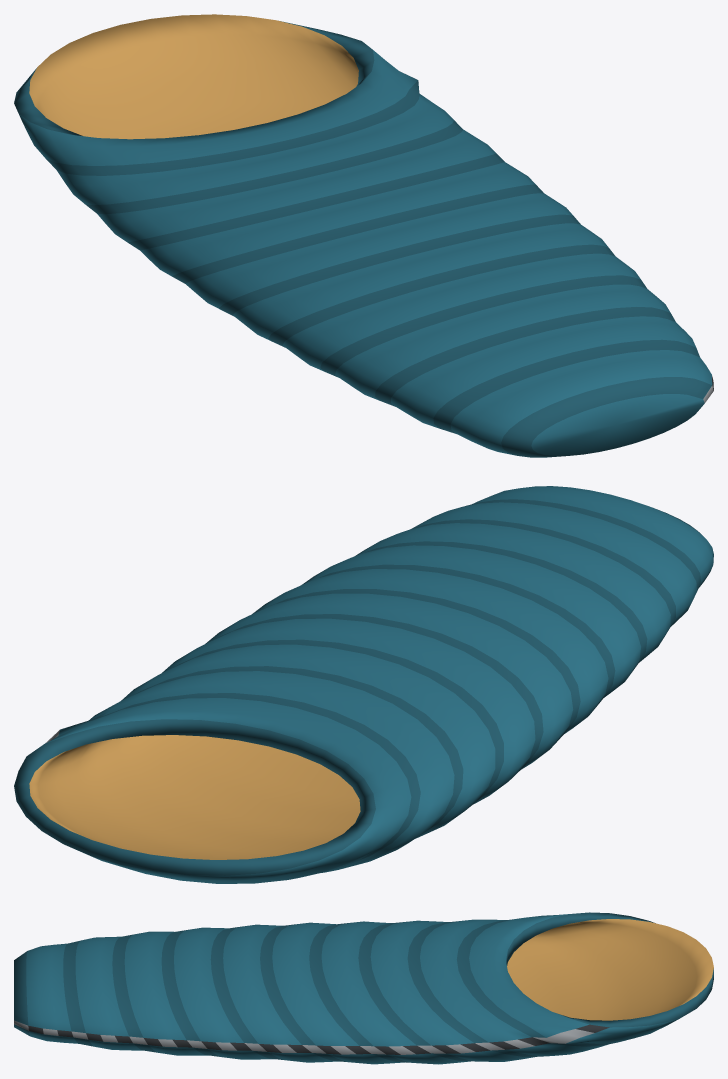
The model's file is NEW_RECOVERY_103_LOD0.glb.
3 views of the same model, one above another, from view 1: azimuth 30°, elevation 25°; view 2: azimuth 150°, elevation 25°; view 3: azimuth 270°, elevation 25° (orthographic). The views are drawn at different scales.
Visible parts, largest first — view 1: Unrolled mummy sleeping bag; view 2: Unrolled mummy sleeping bag; view 3: Unrolled mummy sleeping bag.
Part boxes in pixels (<box>): Unrolled mummy sleeping bag: <box>14,14,713,457</box>; Unrolled mummy sleeping bag: <box>14,486,713,883</box>; Unrolled mummy sleeping bag: <box>14,912,713,1064</box>.
Size of the model in its own units: 0.8885 by 0.2535 by 2.12.
